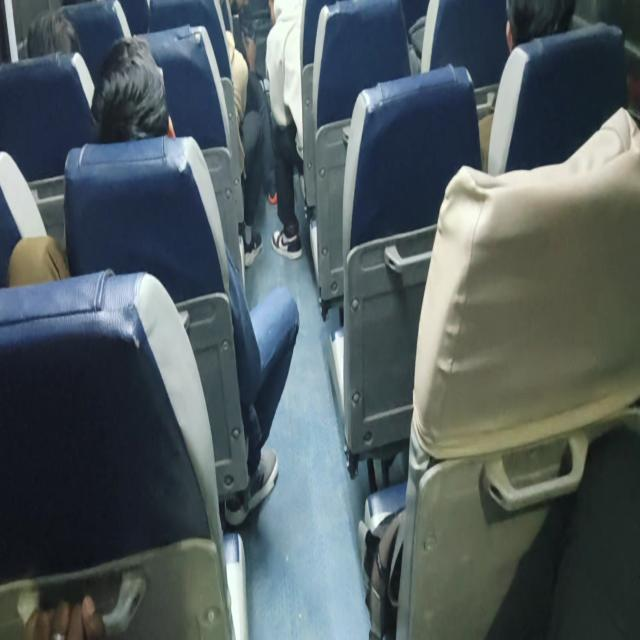person: (97, 46, 179, 143), (506, 0, 572, 44), (27, 12, 72, 61)
